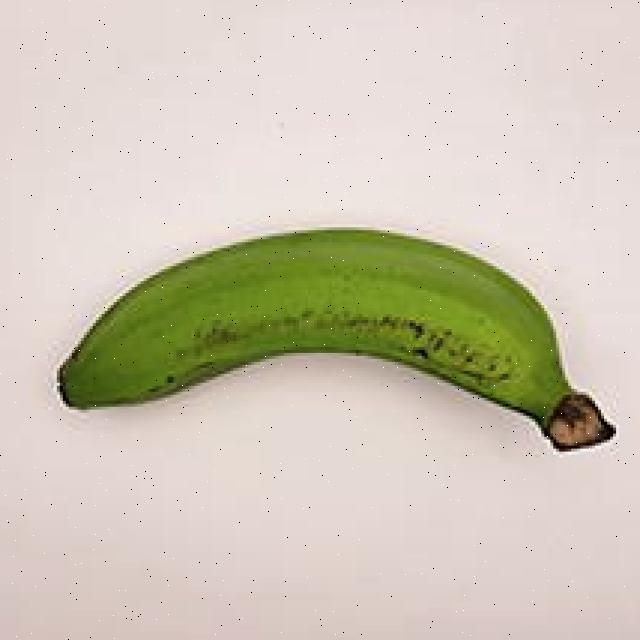Raw: (33, 196, 624, 504)
